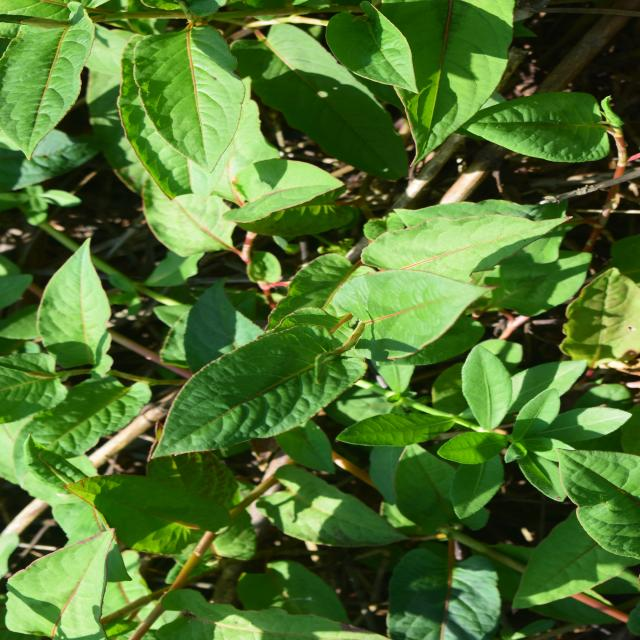Chinese_knotweed: (189, 153, 457, 535)
